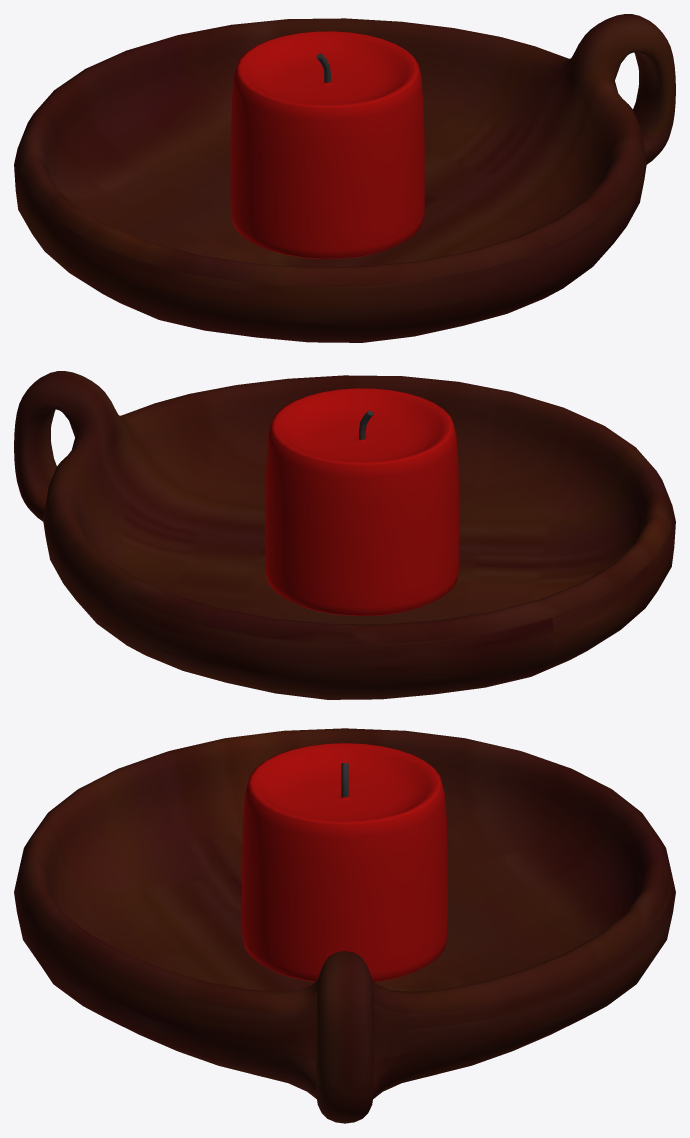
Rendered from Candlestick1.fbx.
3 renders of one model, top to bottom at view 1: azimuth 30°, elevation 25°; view 2: azimuth 150°, elevation 25°; view 3: azimuth 270°, elevation 25°, orthographic. The views are drawn at different scales.
Visible parts, largest first — view 1: Candlestick1, Candle2; view 2: Candlestick1, Candle2; view 3: Candlestick1, Candle2.
Boxes of the visible parts, left/top/right/bottom form: Candlestick1: left=14, top=14, right=675, bottom=342; Candle2: left=230, top=31, right=424, bottom=258; Candlestick1: left=14, top=371, right=675, bottom=699; Candle2: left=265, top=388, right=459, bottom=615; Candlestick1: left=14, top=728, right=675, bottom=1123; Candle2: left=242, top=743, right=447, bottom=981.
Bounding box in the file's own units: 0.1184 × 0.0353 × 0.1042.
3 materials, 1 textured.
